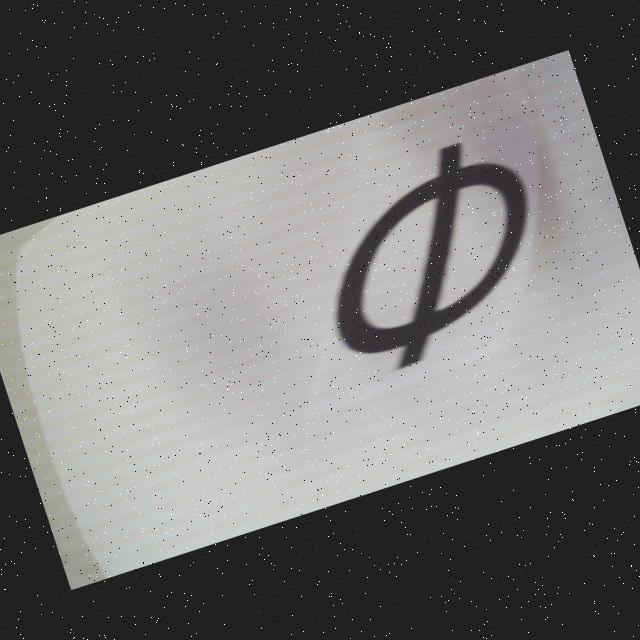PHI: (294, 127, 566, 384)
